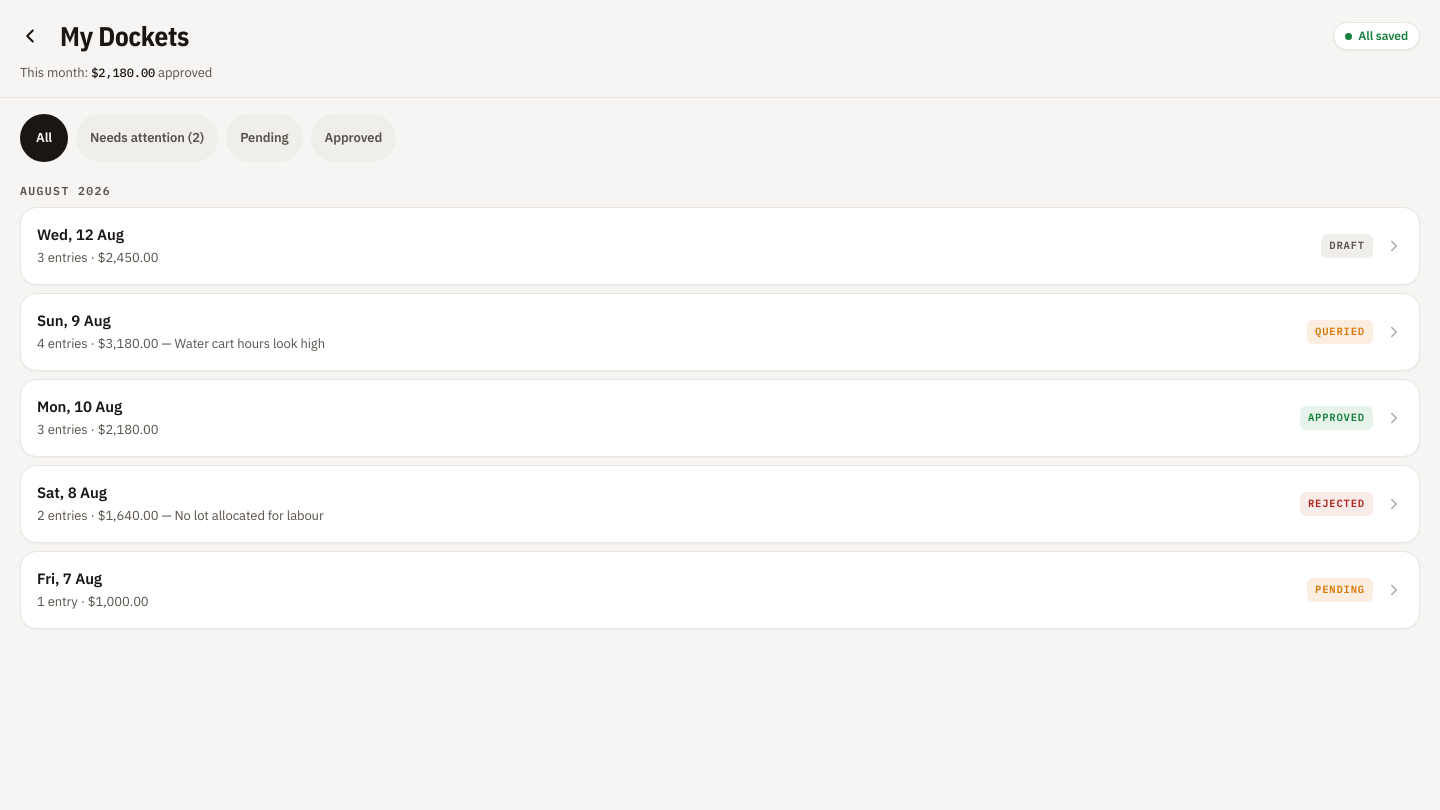
it: subbie shell DocketsListScreen › Needs attention filter shows only queried + rejected
Check: the button "Wed, 12 Aug 3 entries · $2,450.00 DRAFT" is shown, box [20, 207, 1420, 285]
What coordinates should you click on to do the following:
click the button "Needs attention (2)"
I would click on:
 (147, 138)
Its box is [76, 114, 218, 162].
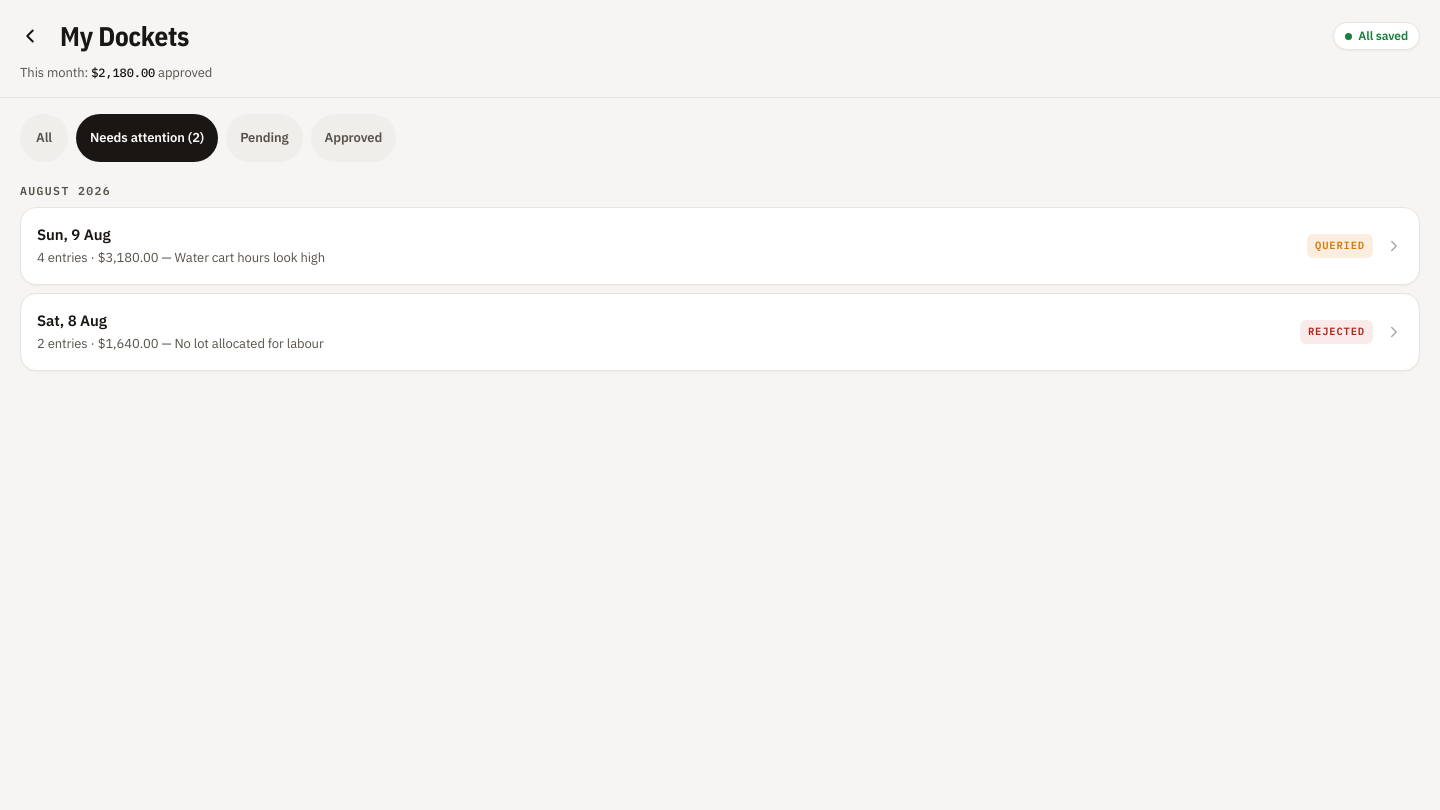
Check: the text "4 entries · $3,180.00 — Water cart hours look high" is shown, box [37, 249, 325, 266]
Check: the button "DRAFT" is gone
